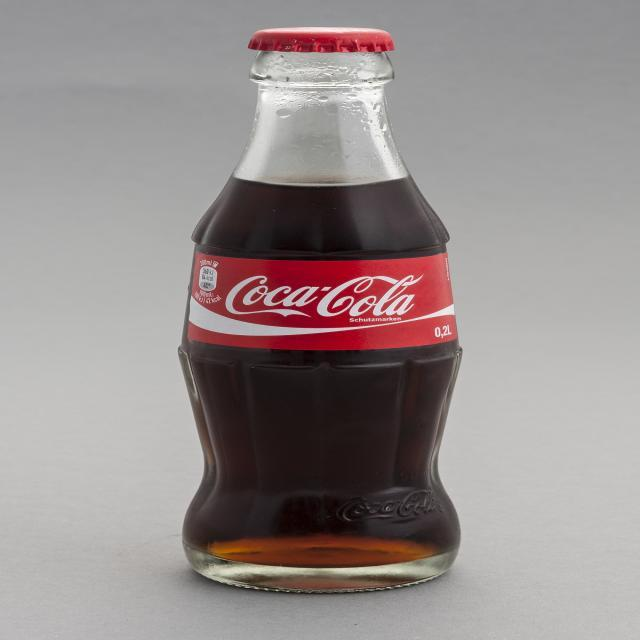Coke: (171, 24, 469, 596)
